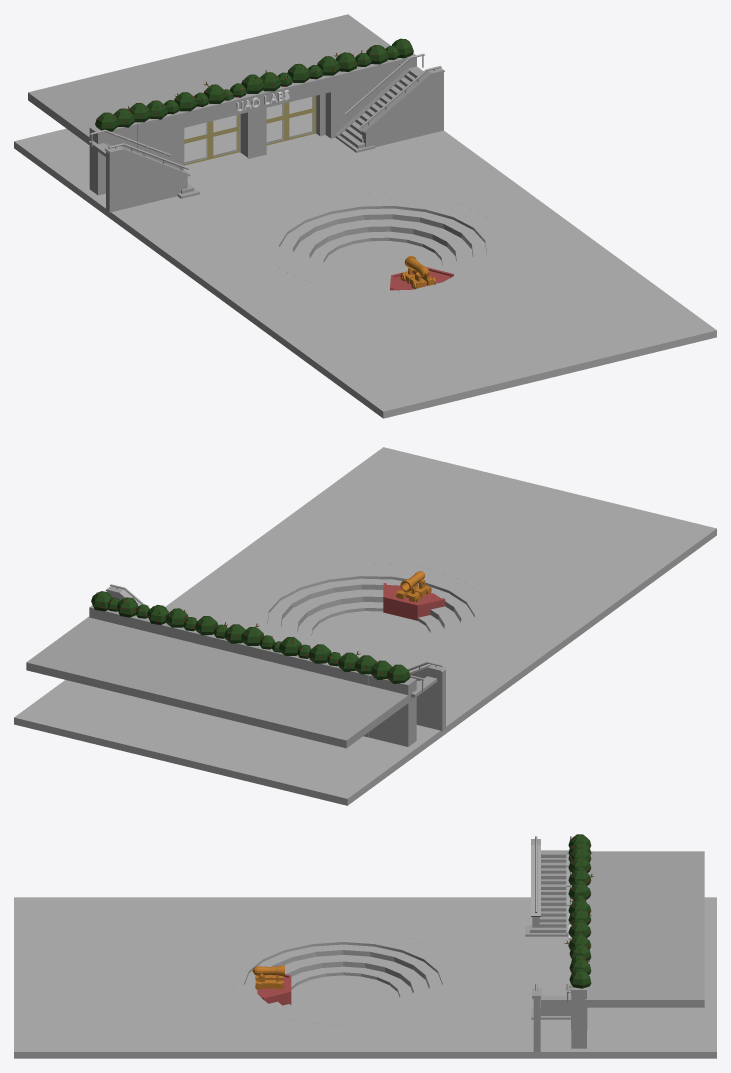
Rendered from agora.fbx.
3 renders of one model, top to bottom at view 1: azimuth 30°, elevation 25°; view 2: azimuth 150°, elevation 25°; view 3: azimuth 270°, elevation 25°, orthographic. The views are drawn at different scales.
Visible parts, largest first — view 1: pCube56; view 2: pCube56; view 3: pCube56.
Boxes of the visible parts, x1,y1,x2,y2 form: pCube56: (14,14,716,418); pCube56: (14,447,716,805); pCube56: (14,834,716,1058).
Bounding box in the file's own units: 44.53 × 13.07 × 84.82.
